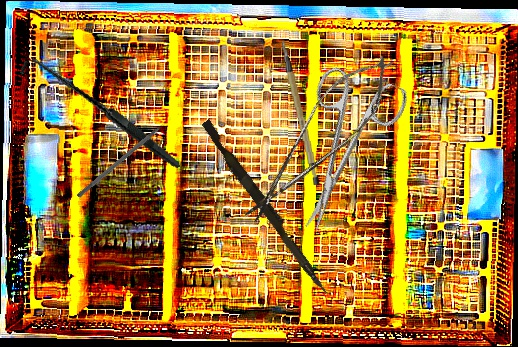Hook Surgical: (18, 31, 180, 199), (76, 116, 174, 200)
Iris Scissors: (267, 58, 411, 245)
Micro Scissor: (229, 39, 410, 240)
Pusher: (196, 119, 336, 296)
Scalpel Handle: (280, 38, 323, 187)
